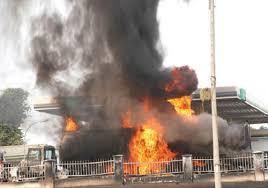fire: (122, 90, 201, 178), (62, 112, 78, 133)
